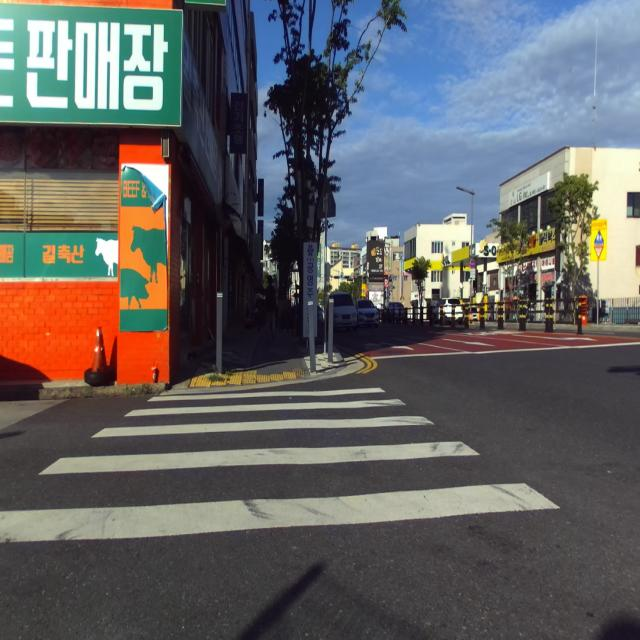횡단보도: (0, 388, 560, 542)
